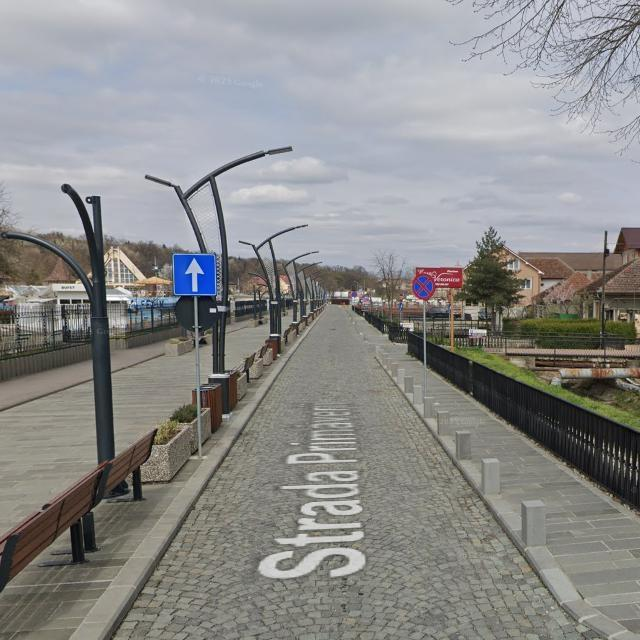forb_waiting: (413, 274, 435, 299)
